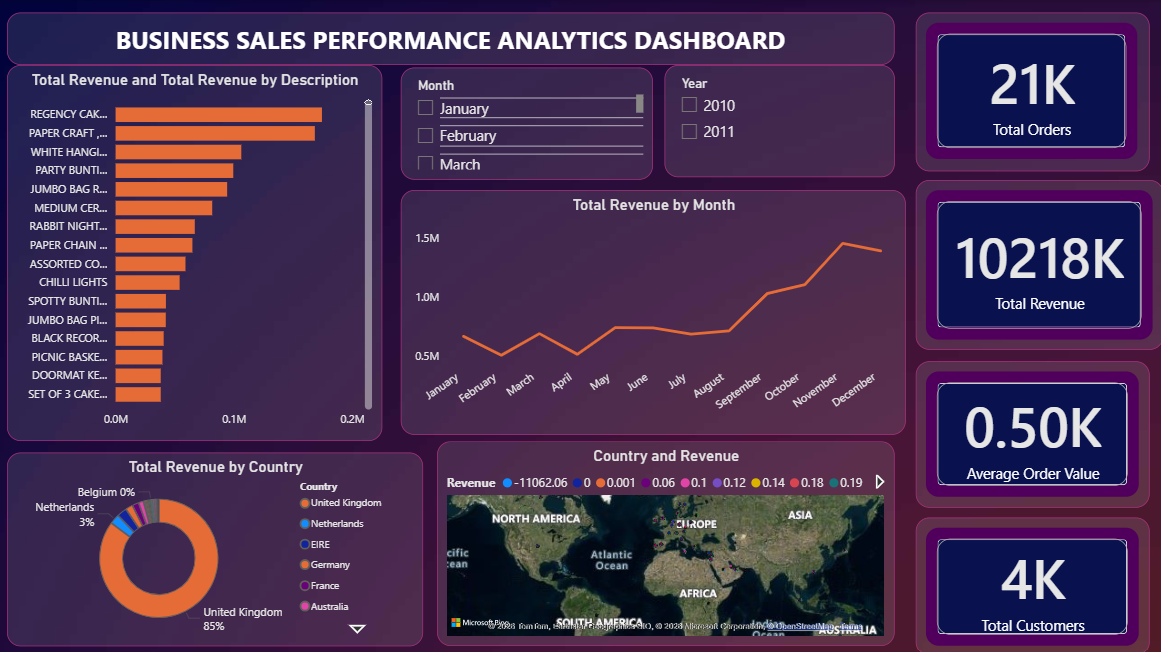

What the dashboard file says about the page in this screenshot:
{"tool":"powerbi","page":{"name":"Dashboard","canvas":[1280,720],"ordinal":0},"visuals":[{"type":"textbox","box":[0,0,797.3,57.6],"z":0},{"type":"barChart","fields":{"Category":["online_retail.Description"],"Y":["online_retail.Total Revenue"]},"box":[20.6,57.6,411.7,413],"z":1000},{"type":"lineChart","fields":{"Category":["online_retail.Month"],"Y":["online_retail.Total Revenue"]},"box":[443.2,201.7,554.4,269],"z":2000},{"type":"donutChart","fields":{"Category":["online_retail.Country"],"Y":["online_retail.Total Revenue"]},"box":[20.6,484.4,467.9,236],"z":3000},{"type":"map","fields":{"Category":["online_retail.Country"],"Series":["online_retail.Revenue"]},"box":[498.1,484.4,499.5,236],"z":4000},{"type":"cardVisual","fields":{"Data":["online_retail.Total Customers"]},"box":[1008.6,570.8,256.6,149.6],"z":5000},{"type":"cardVisual","fields":{"Data":["online_retail.Total Orders"]},"box":[1008.6,13.7,256.6,174.3],"z":6000},{"type":"cardVisual","fields":{"Data":["online_retail.Average Order Value"]},"box":[1008.6,396.6,256.6,160.5],"z":7000},{"type":"cardVisual","fields":{"Data":["online_retail.Total Revenue"]},"box":[1008.6,197.6,271.7,186.6],"z":8000},{"type":"slicer","fields":{"Values":["online_retail.Month"]},"box":[443.2,64.5,277.2,113.9],"z":9000},{"type":"slicer","fields":{"Values":["online_retail.Year"]},"box":[732.8,64.5,252.5,113.9],"z":10000}]}

Visuals, with their boxes in screenshot pixels (x1, y1, x2, y2), scaled from the page's 1280x720 canvas onto the 1161x652 screenshot:
textbox: bbox=(0, 0, 723, 52)
barChart - online_retail.Description x online_retail.Total Revenue: bbox=(19, 52, 392, 426)
lineChart - online_retail.Month x online_retail.Total Revenue: bbox=(402, 183, 905, 426)
donutChart - online_retail.Country x online_retail.Total Revenue: bbox=(19, 439, 443, 651)
map - online_retail.Country x online_retail.Revenue: bbox=(452, 439, 905, 651)
cardVisual - online_retail.Total Customers: bbox=(915, 517, 1148, 651)
cardVisual - online_retail.Total Orders: bbox=(915, 12, 1148, 170)
cardVisual - online_retail.Average Order Value: bbox=(915, 359, 1148, 504)
cardVisual - online_retail.Total Revenue: bbox=(915, 179, 1160, 348)
slicer - online_retail.Month: bbox=(402, 58, 653, 162)
slicer - online_retail.Year: bbox=(665, 58, 894, 162)
